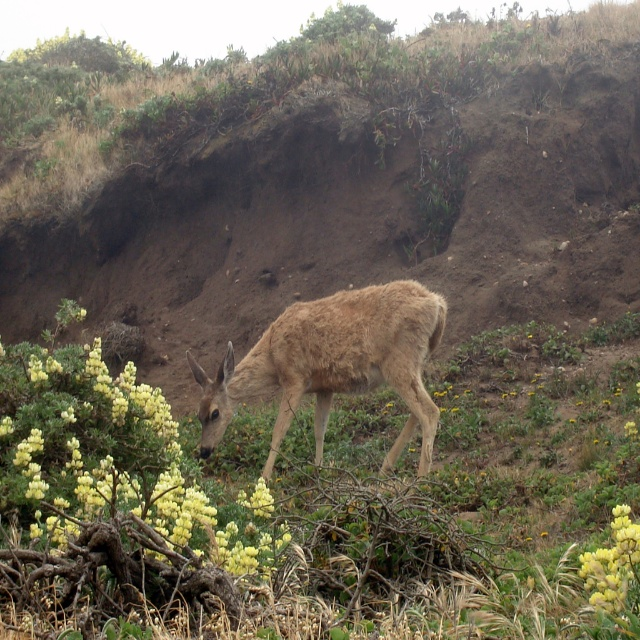Deer: (186, 283, 440, 486)
